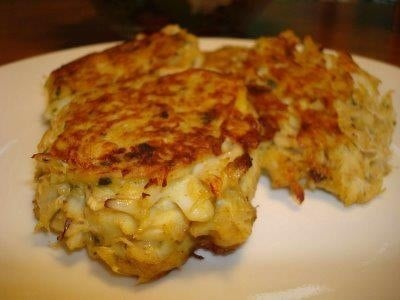sandwich: (27, 24, 400, 295)
